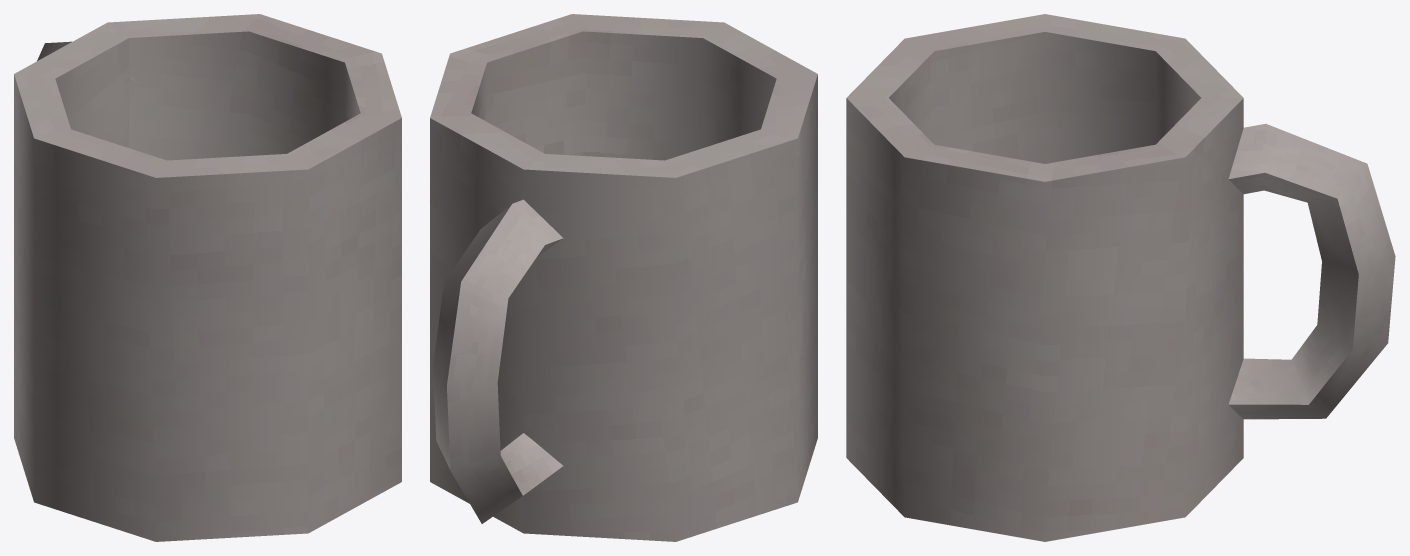
The model's file is Cup.gltf.
The picture shows the model from 3 angles, left to right: view 1: azimuth 30°, elevation 25°; view 2: azimuth 150°, elevation 25°; view 3: azimuth 270°, elevation 25°; orthographic projection.
Visible parts, largest first — view 1: Cup; view 2: Cup; view 3: Cup.
Boxes of the visible parts, x1,y1,x2,y2 form: Cup: [14, 14, 401, 541]; Cup: [430, 14, 817, 541]; Cup: [846, 14, 1395, 541].
Size of the model in its own units: 0.1018 by 0.1018 by 0.1407.
1 material, 1 textured.
